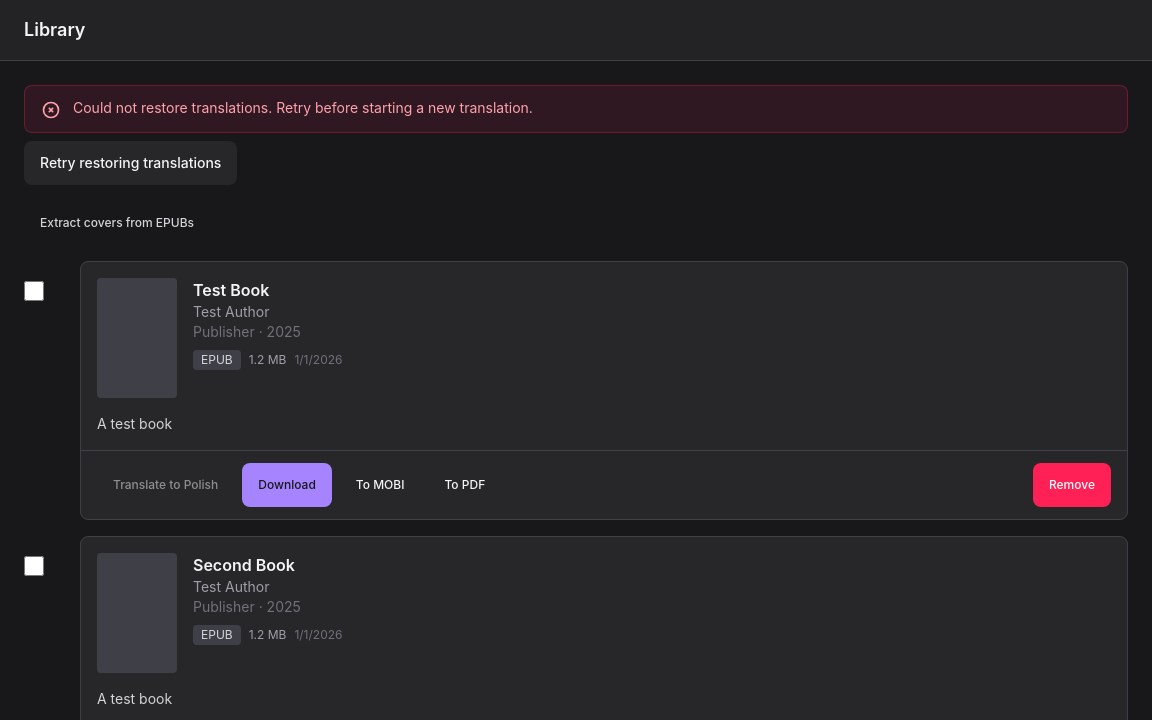
LibraryView UX refactor › checkbox selection toggles and tracks selectedIds
Click the 1st checkbox with test id "library-select-checkbox".
click(34, 291)  # box [24, 281, 44, 301]
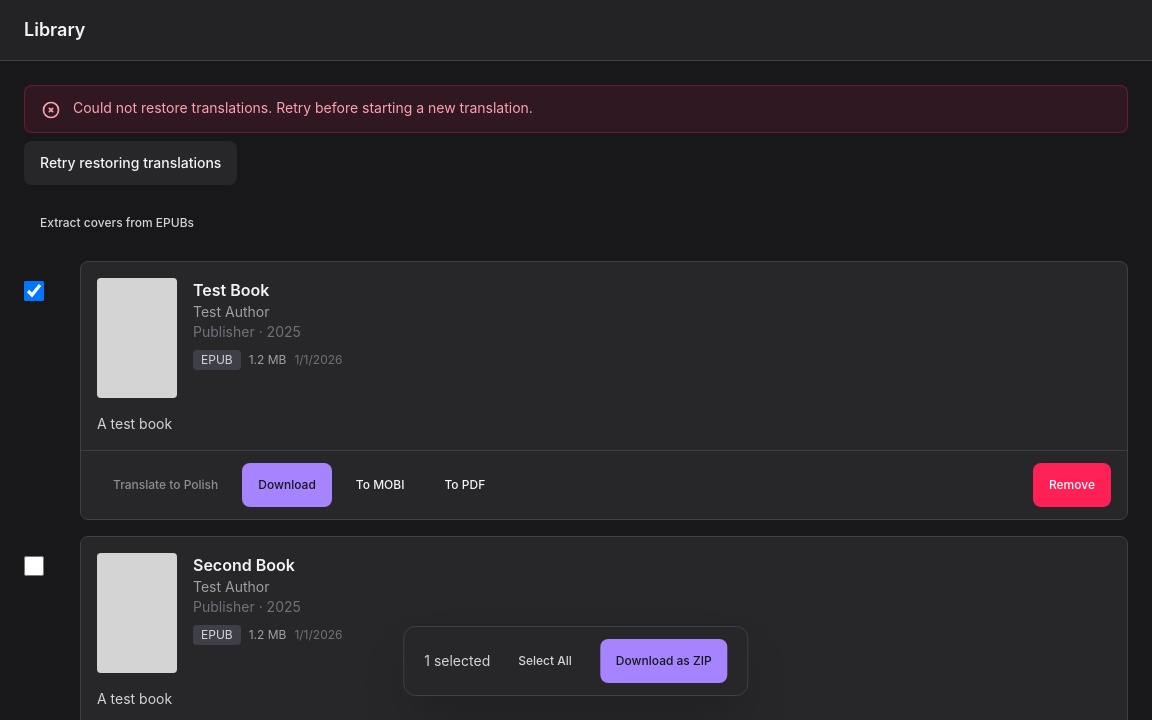
expect the element with test id "selection-toolbar" is shown: met, box [403, 626, 749, 696]
expect the element with test id "selection-toolbar" shows "1 selected": met, box [424, 652, 490, 669]
